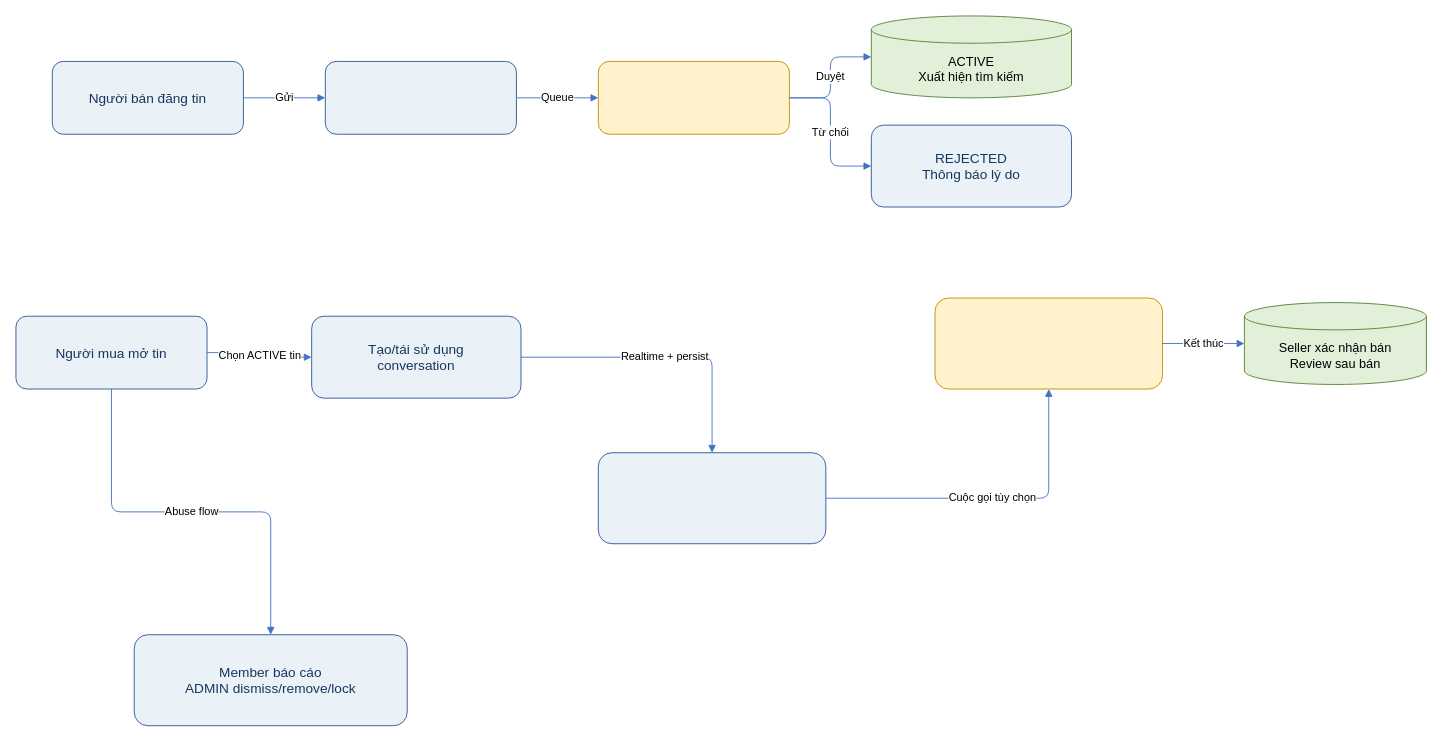
The diagram is 1442 pixels wide and 742 high, and some of its shapes have lost their labels. Each missing label, with the box of its shape:
ADMIN kiểm duyệt: (597, 61, 789, 134)
PENDING Không public: (324, 61, 516, 134)
WS message TEXT/LOCATION/MEDIA: (597, 452, 826, 544)
WS signaling + WebRTC P2P media: (934, 297, 1163, 389)
